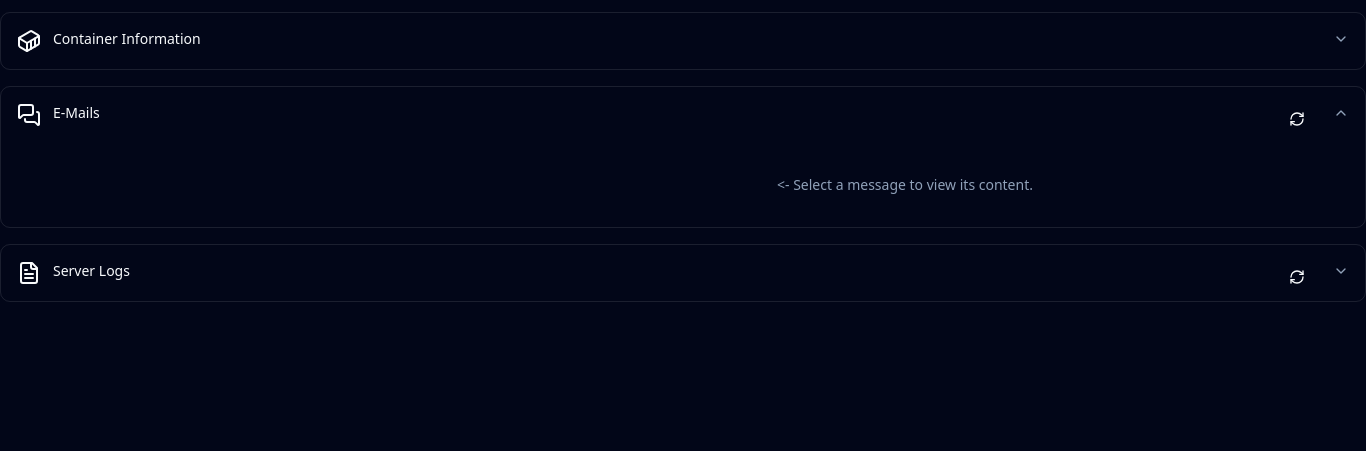
Test: MailTab › displays mail logs when backend returns logs
Click to open the Server Logs accordion
Click the button "Server Logs" at (91, 270), box [17, 245, 1349, 301]
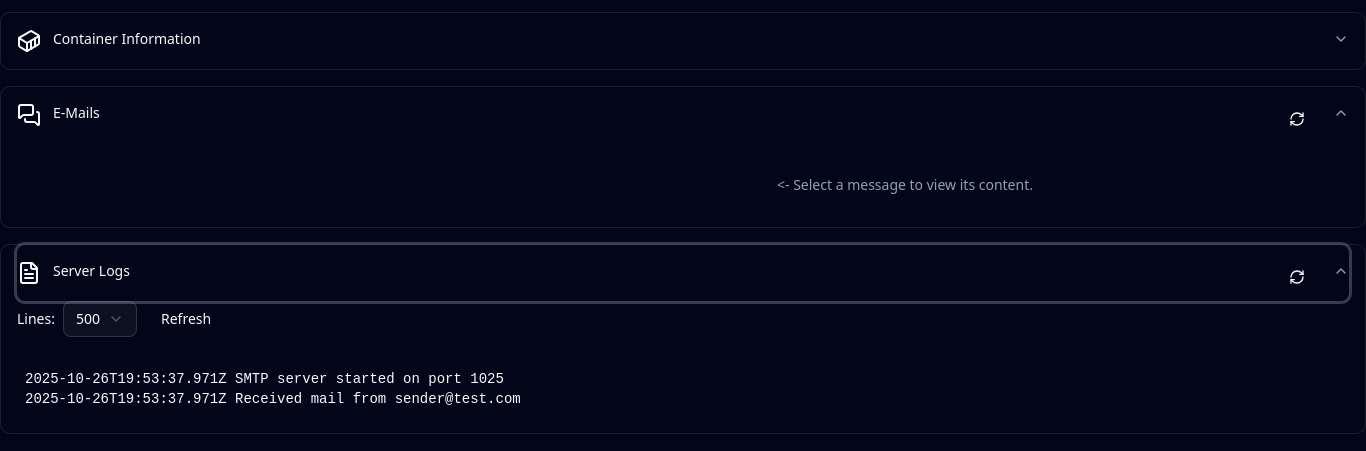
Check: the text "Received mail from sender@test.com" is shown, box [25, 371, 521, 407]
